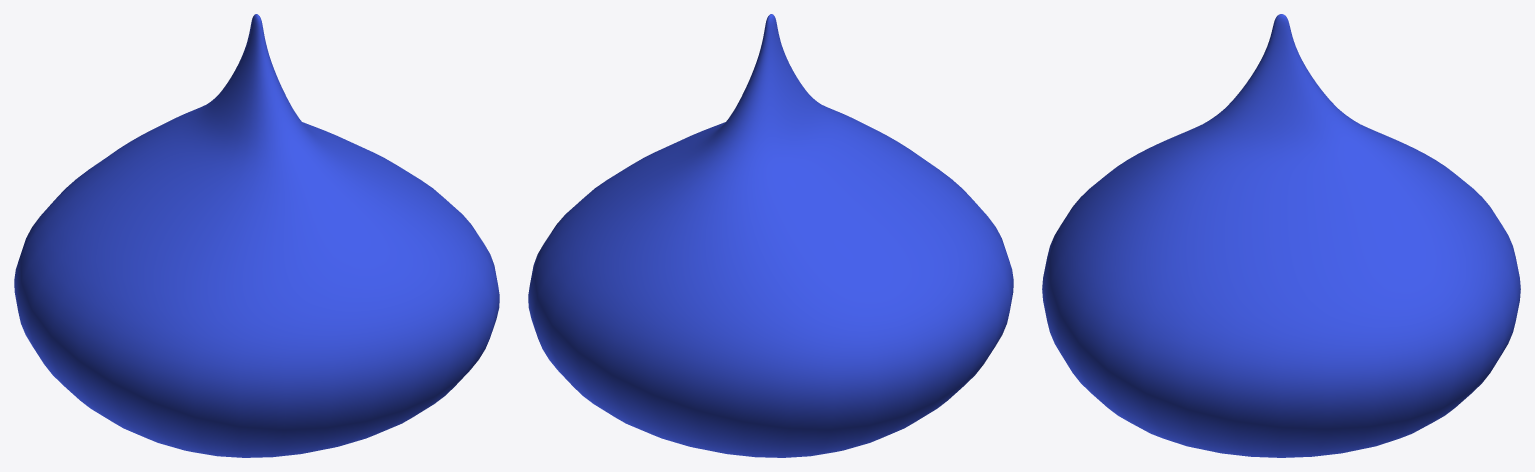
File: Slime.fbx
The picture shows the model from 3 angles, left to right: view 1: azimuth 30°, elevation 25°; view 2: azimuth 150°, elevation 25°; view 3: azimuth 270°, elevation 25°; orthographic projection.
Visible parts, largest first — view 1: Cube; view 2: Cube; view 3: Cube.
Boxes of the visible parts, x1,y1,x2,y2 form: Cube: (14, 14, 499, 457); Cube: (528, 14, 1013, 457); Cube: (1042, 14, 1520, 457).
Bounding box in the file's own units: 1.93 × 1.81 × 1.94.
